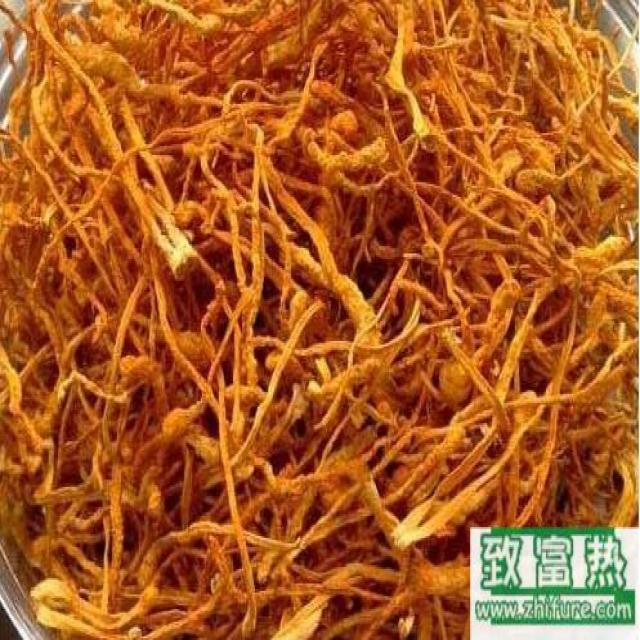Cordyceps militaris: (4, 0, 640, 640)
